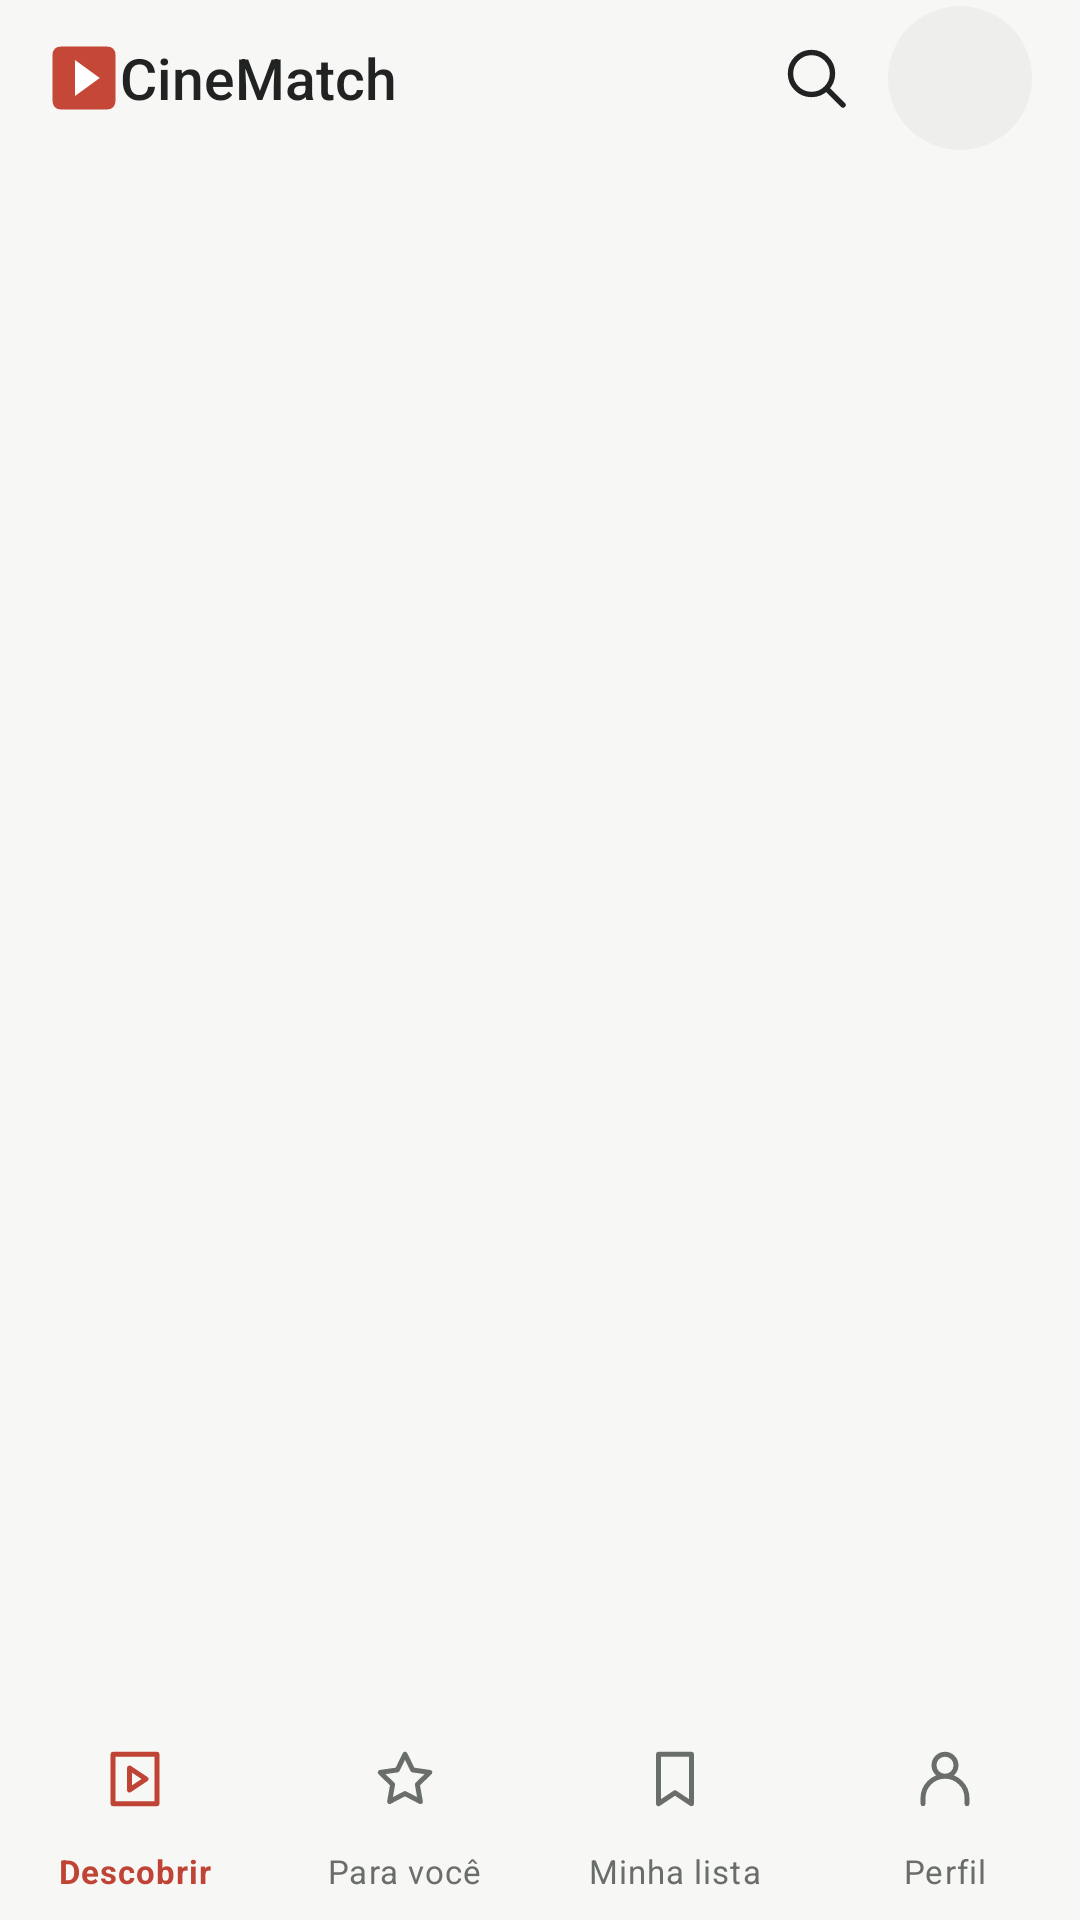

Named icons in this screenshot (1080px x 1920px) and their centers, [x,y]:
Buscar no catálogo: [816,78]
